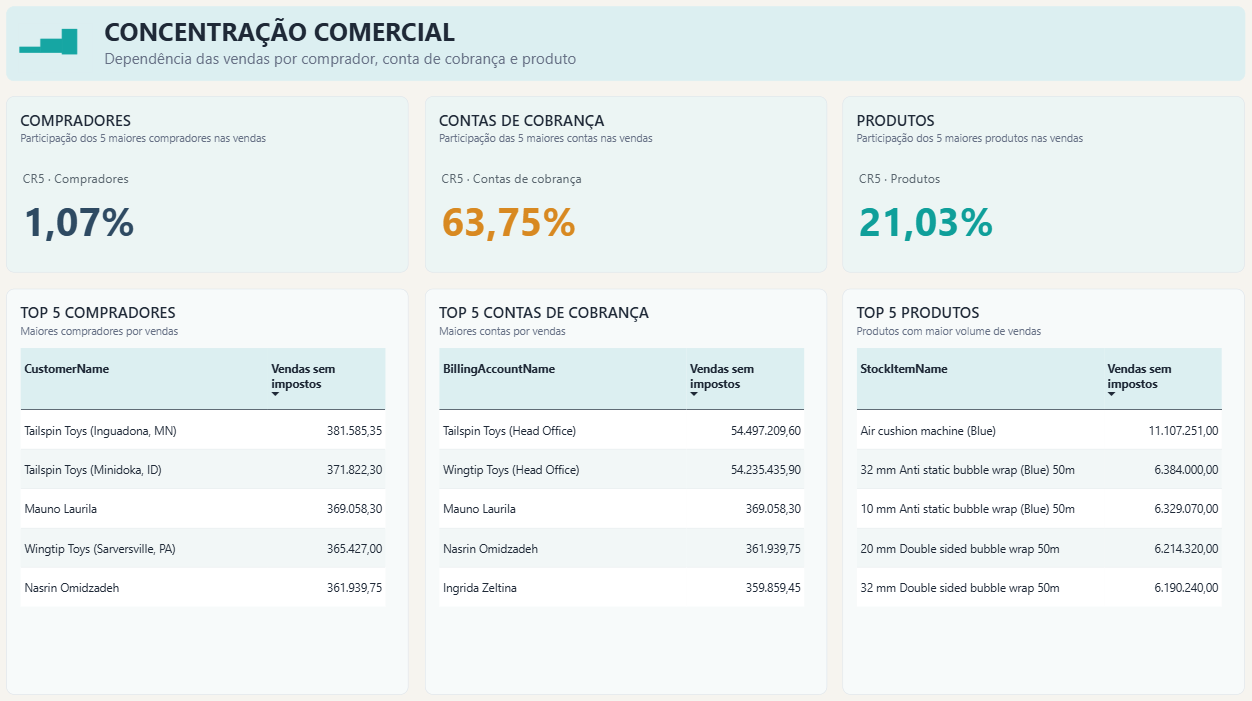

The dashboard page shown, as its layout file describes it:
{"tool":"powerbi","page":{"name":"04_Q04_Concentracao","canvas":[1920,1080],"ordinal":4},"visuals":[{"type":"cardVisual","title":"COMPRADORES","fields":{"Data":["_Medidas.K12 CR5 — comprador"]},"box":[32,152,602.7,264],"z":0},{"type":"cardVisual","title":"CONTAS DE COBRANÇA","fields":{"Data":["_Medidas.K12 CR5 — conta"]},"box":[658.7,152,602.7,264],"z":1000},{"type":"cardVisual","title":"PRODUTOS","fields":{"Data":["_Medidas.K12 CR5 — produto"]},"box":[1285.3,152,602.7,264],"z":2000},{"type":"tableEx","title":"TOP 5 CONTAS DE COBRANÇA","fields":{"Values":["DimBillingAccount.BillingAccountName","_Medidas.Vendas sem impostos"]},"box":[658.7,440,602.7,608],"z":3000},{"type":"tableEx","title":"TOP 5 COMPRADORES","fields":{"Values":["DimBuyer.CustomerName","_Medidas.Vendas sem impostos"]},"box":[32,440,602.7,608],"z":4000},{"type":"tableEx","title":"TOP 5 PRODUTOS","fields":{"Values":["DimProduct.StockItemName","_Medidas.Vendas sem impostos"]},"box":[1285.3,440,602.7,608],"z":5000},{"type":"textbox","box":[32,16,1856,112],"z":10000},{"type":"textbox","box":[50.6,43.1,110.5,73],"z":11000}]}

Visuals, with their boxes in screenshot pixels (x1, y1, x2, y2), scaled from the page's 1920x1080 canvas onto the 1252x701 screenshot:
"COMPRADORES" cardVisual: (left=21, top=99, right=414, bottom=270)
"CONTAS DE COBRANÇA" cardVisual: (left=430, top=99, right=823, bottom=270)
"PRODUTOS" cardVisual: (left=838, top=99, right=1231, bottom=270)
"TOP 5 CONTAS DE COBRANÇA" tableEx: (left=430, top=286, right=823, bottom=680)
"TOP 5 COMPRADORES" tableEx: (left=21, top=286, right=414, bottom=680)
"TOP 5 PRODUTOS" tableEx: (left=838, top=286, right=1231, bottom=680)
textbox: (left=21, top=10, right=1231, bottom=83)
textbox: (left=33, top=28, right=105, bottom=75)
